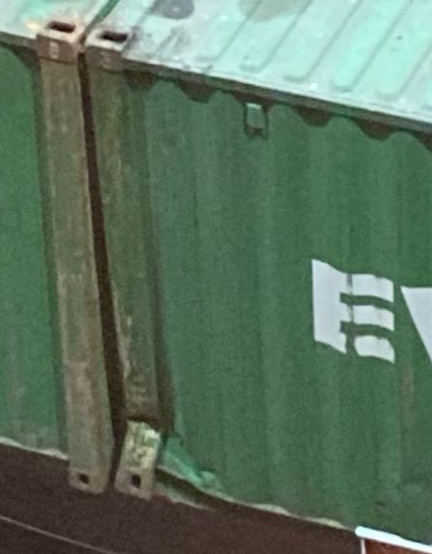moderate: (101, 374, 228, 490)
